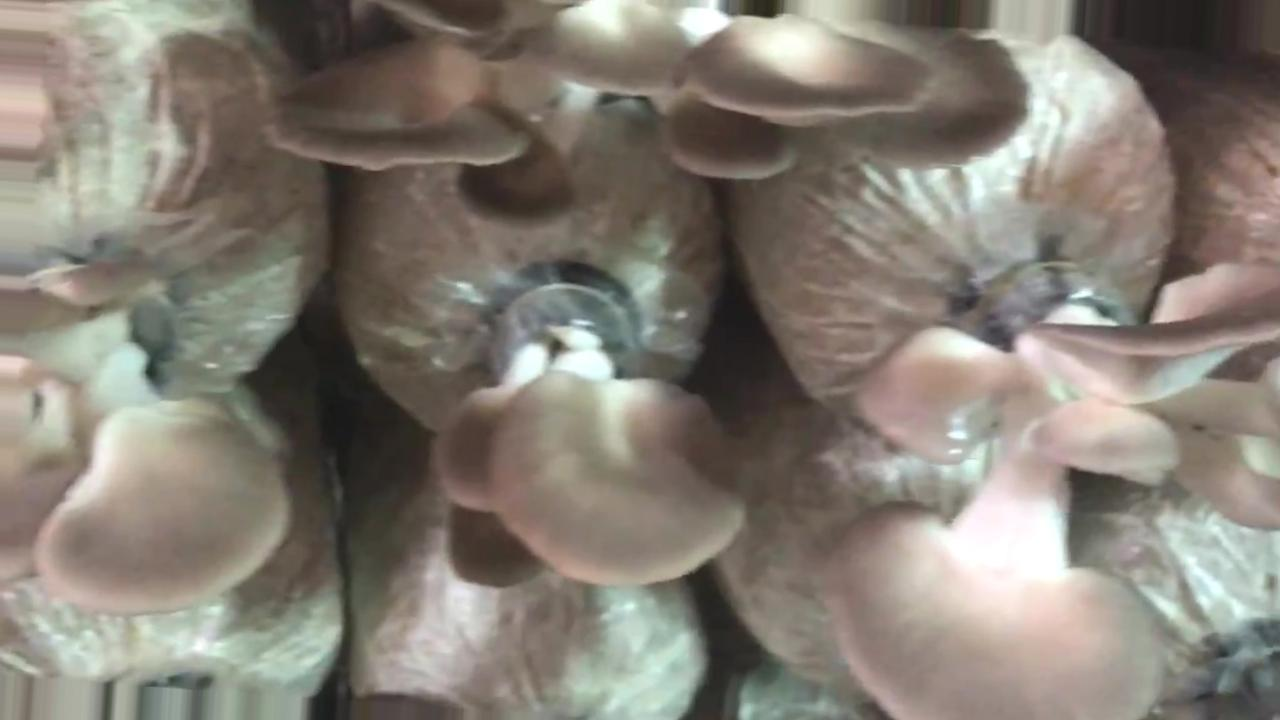nam: (823, 256, 1276, 720), (263, 1, 1035, 227), (1, 252, 296, 627), (442, 257, 753, 595)
